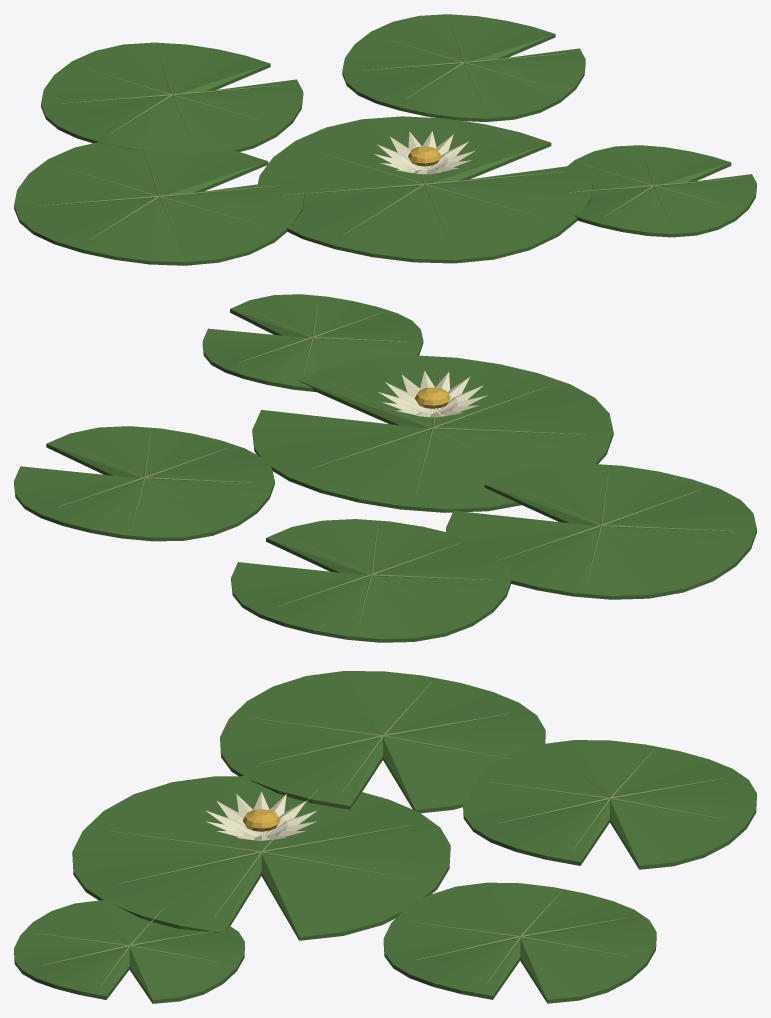
File: lilies.glb
The picture shows the model from 3 angles, top to bottom: view 1: azimuth 30°, elevation 25°; view 2: azimuth 150°, elevation 25°; view 3: azimuth 270°, elevation 25°; orthographic projection. The views are drawn at different scales.
Parts seen in each view (by area): view 1: lilies; view 2: lilies; view 3: lilies.
Part boxes in pixels (x1,y1,x2,y2): lilies: (14,14,756,265); lilies: (14,294,756,642); lilies: (14,671,756,1003).
Bounding box in the file's own units: 1.47 × 0.1065 × 1.41.
